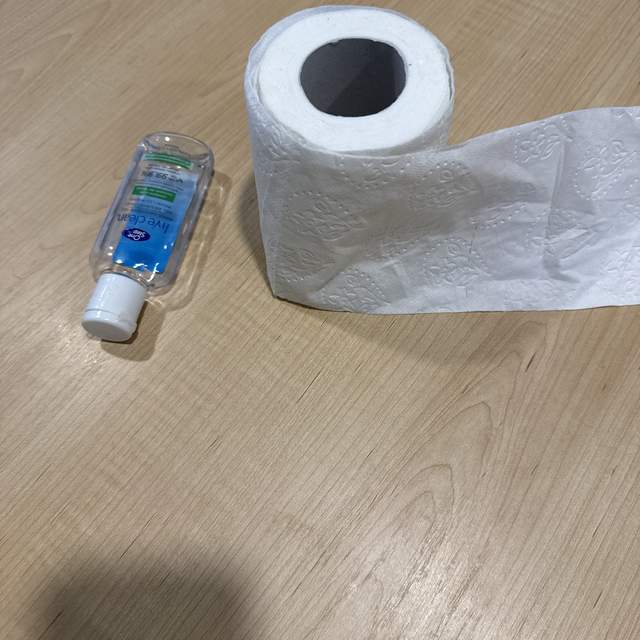Sanitizer: (68, 103, 244, 375)
Toilet Paper: (232, 32, 640, 328)
